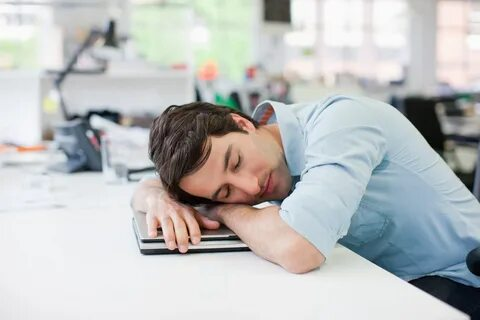sleep: (130, 95, 480, 276)
